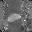people: (8, 13, 21, 23)
